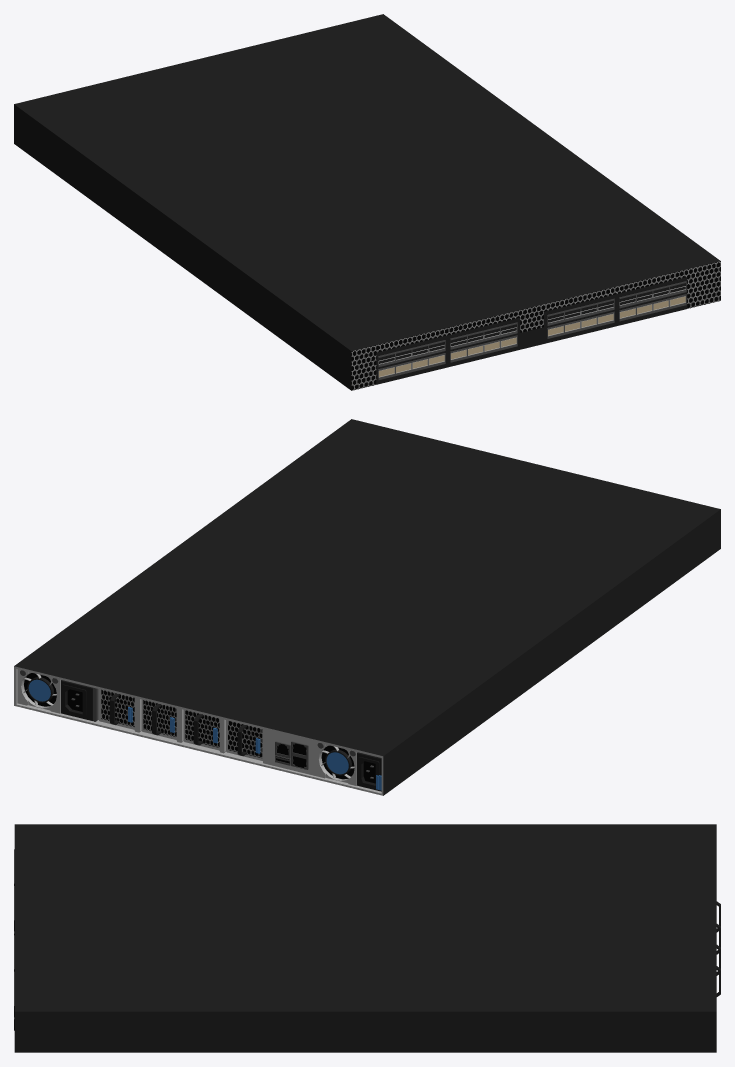
Rendered from HPE_SN2700M.fbx.
3 views of the same model, one above another, from view 1: azimuth 30°, elevation 25°; view 2: azimuth 150°, elevation 25°; view 3: azimuth 270°, elevation 25° (orthographic). The views are drawn at different scales.
Visible parts, largest first — view 1: HPE_SN2700M; view 2: HPE_SN2700M; view 3: HPE_SN2700M.
Boxes of the visible parts, x1=… form: HPE_SN2700M: x1=14, y1=14, x2=720, y2=390; HPE_SN2700M: x1=14, y1=419, x2=720, y2=795; HPE_SN2700M: x1=14, y1=824, x2=720, y2=1052.
Size of the model in its own units: 434 by 692 by 44.5.
Materials: 7 (1 with a texture image).
